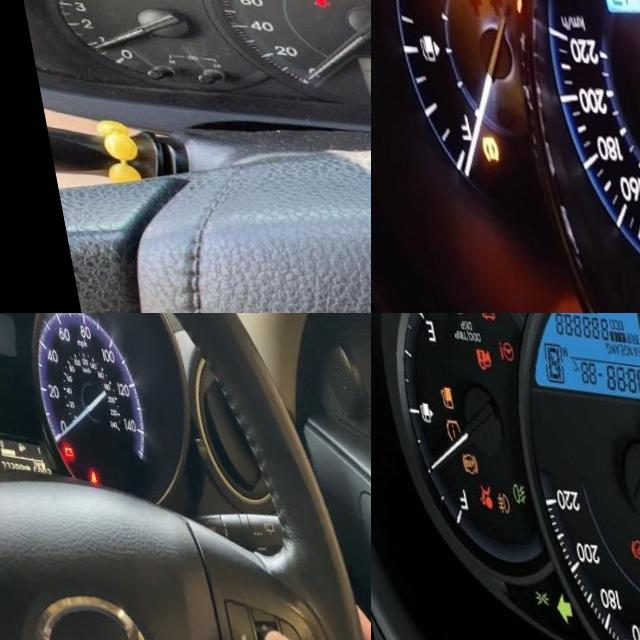Electronic Power Steering: (489, 334, 510, 358)
